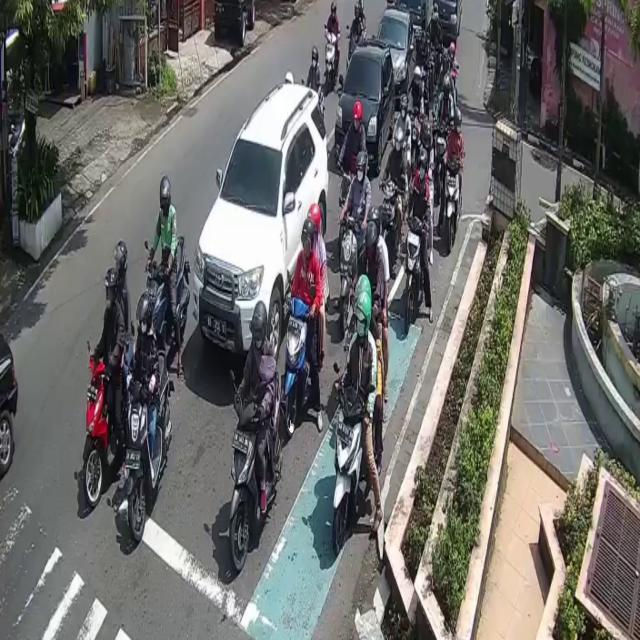car: (192, 80, 328, 374), (334, 39, 395, 177), (374, 5, 417, 107)
motorbike: (228, 375, 280, 578), (128, 350, 174, 541), (334, 386, 366, 552), (80, 364, 110, 516), (286, 290, 314, 430), (404, 213, 426, 335), (338, 216, 358, 335), (443, 156, 460, 244)
